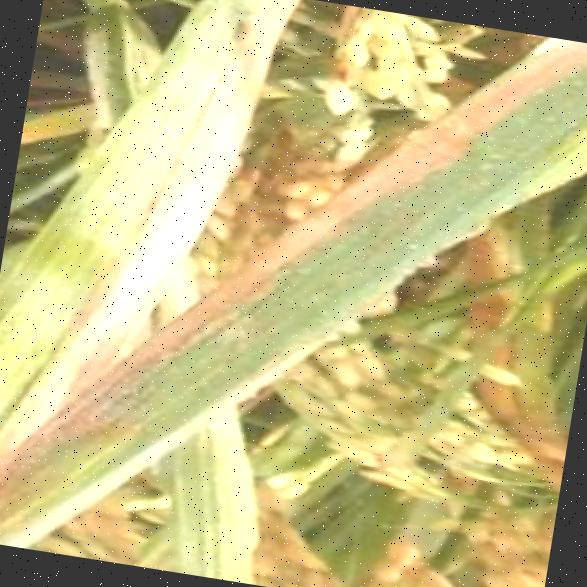Bacteria_Leaf_Blight: (404, 18, 587, 234)
